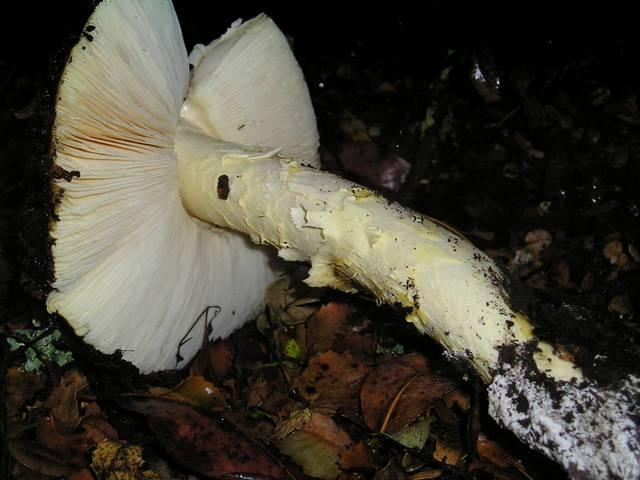Edible Mushroom: (44, 0, 638, 478)
